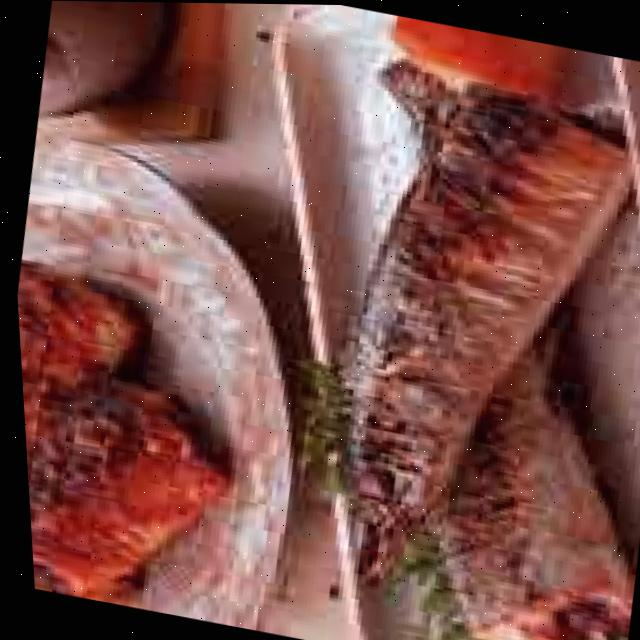熟制海鲜: (260, 79, 640, 640)
